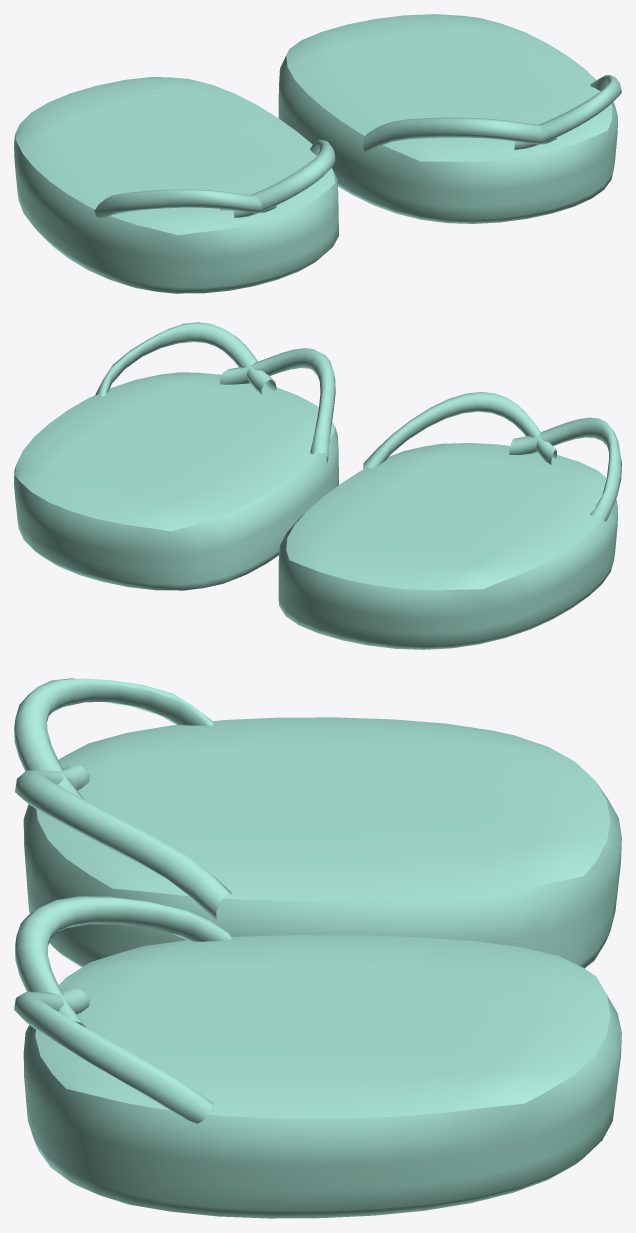
File: Boots05_flipflops (1).fbx
The picture shows the model from 3 angles, top to bottom: view 1: azimuth 30°, elevation 25°; view 2: azimuth 150°, elevation 25°; view 3: azimuth 270°, elevation 25°; orthographic projection. The views are drawn at different scales.
Visible parts, largest first — view 1: FlipFlops; view 2: FlipFlops; view 3: FlipFlops.
Boxes of the visible parts, box(x1,y1,x2,y2) form: FlipFlops: box(14, 14, 621, 293); FlipFlops: box(14, 322, 621, 649); FlipFlops: box(14, 678, 621, 1218).
Bounding box in the file's own units: 89.46 × 17.84 × 55.79.
